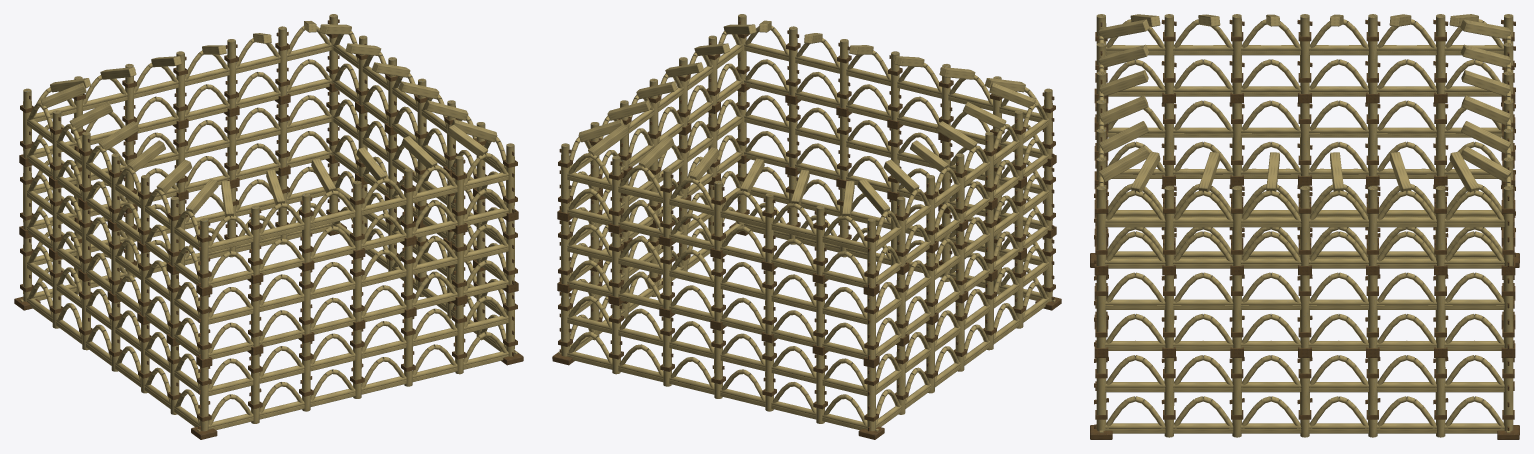
3 renders of one model, left to right at view 1: azimuth 30°, elevation 25°; view 2: azimuth 150°, elevation 25°; view 3: azimuth 270°, elevation 25°, orthographic. The views are drawn at different scales.
Parts seen in each view (by area): view 1: Tier 2 side 0 post 0, Tier 2 side 0 post 4, Tier 2 side 0 post 3, Tier 2 side 0 post 1, Tier 2 side 0 post 2, Tier 2 side 2 post 1, Tier 2 side 0 post 5, Tier 0 side 0 post 2, Tier 0 side 0 post 4, Tier 0 side 0 post 3, Tier 2 side 2 post 2, Tier 2 side 3 post 1 (+14 smaller); view 2: Tier 2 side 3 post 0, Tier 2 side 2 post 2, Tier 2 side 2 post 0, Tier 2 side 2 post 3, Tier 2 side 2 post 4, Tier 2 side 2 post 5, Crown petal 3-5, Tier 2 side 0 post 5, Tier 2 side 2 post 1, Tier 0 side 2 post 2, Tier 0 side 2 post 3, Tier 0 side 2 post 4 (+12 smaller); view 3: Tier 2 side 1 post 0, Tier 2 side 2 post 0, Tier 2 side 1 post 1, Tier 2 side 3 post 5, Tier 0 side 1 post 1, Tier 2 side 3 post 1, Crown petal 2-0, Tier 2 side 1 post 5, Tier 1 side 1 post 0, Tier 0 side 1 post 0, Tier 0 side 1 post 5, Crown petal 0-5 (+37 smaller).
Part boxes in pixels (<box>): Tier 2 side 0 post 0: <box>199,218,208,287</box>; Tier 2 side 0 post 4: <box>404,168,412,238</box>; Tier 2 side 0 post 3: <box>353,180,361,250</box>; Tier 2 side 0 post 1: <box>251,205,259,275</box>; Tier 2 side 0 post 2: <box>302,193,310,262</box>; Tier 2 side 2 post 1: <box>278,26,286,96</box>; Tier 2 side 0 post 5: <box>455,156,463,225</box>; Tier 0 side 0 post 2: <box>302,342,310,411</box>; Tier 0 side 0 post 4: <box>404,317,412,386</box>; Tier 0 side 0 post 3: <box>353,329,361,398</box>; Tier 2 side 2 post 2: <box>227,39,235,108</box>; Tier 2 side 3 post 1: <box>52,110,61,180</box>; Tier 2 side 3 post 0: <box>867,218,875,287</box>; Tier 2 side 2 post 2: <box>663,168,671,238</box>; Tier 2 side 2 post 0: <box>561,143,569,213</box>; Tier 2 side 2 post 3: <box>714,180,722,250</box>; Tier 2 side 2 post 4: <box>765,193,773,262</box>; Tier 2 side 2 post 5: <box>816,205,824,275</box>; Crown petal 3-5: <box>989,82,1035,107</box>; Tier 2 side 0 post 5: <box>789,26,797,96</box>; Tier 2 side 2 post 1: <box>612,156,620,225</box>; Tier 0 side 2 post 2: <box>663,317,671,386</box>; Tier 0 side 2 post 3: <box>714,329,722,398</box>; Tier 0 side 2 post 4: <box>765,342,773,411</box>; Tier 2 side 1 post 0: <box>1096,186,1106,265</box>; Tier 2 side 2 post 0: <box>1503,186,1513,265</box>; Tier 2 side 1 post 1: <box>1164,186,1174,265</box>; Tier 2 side 3 post 5: <box>1164,14,1174,93</box>; Tier 0 side 1 post 1: <box>1164,358,1174,437</box>; Tier 2 side 3 post 1: <box>1435,14,1445,93</box>; Crown petal 2-0: <box>1461,146,1511,182</box>; Tier 2 side 1 post 5: <box>1435,186,1445,265</box>; Tier 1 side 1 post 0: <box>1096,275,1106,348</box>; Tier 0 side 1 post 0: <box>1096,358,1106,431</box>; Tier 0 side 1 post 5: <box>1435,358,1445,437</box>; Crown petal 0-5: <box>1098,146,1148,182</box>.
Bounding box in the file's own units: 2.85 × 1.94 × 2.85.
2 materials, 2 textured.
